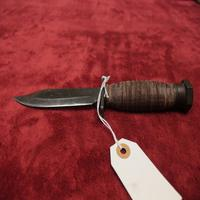knife: (10, 76, 200, 116)
